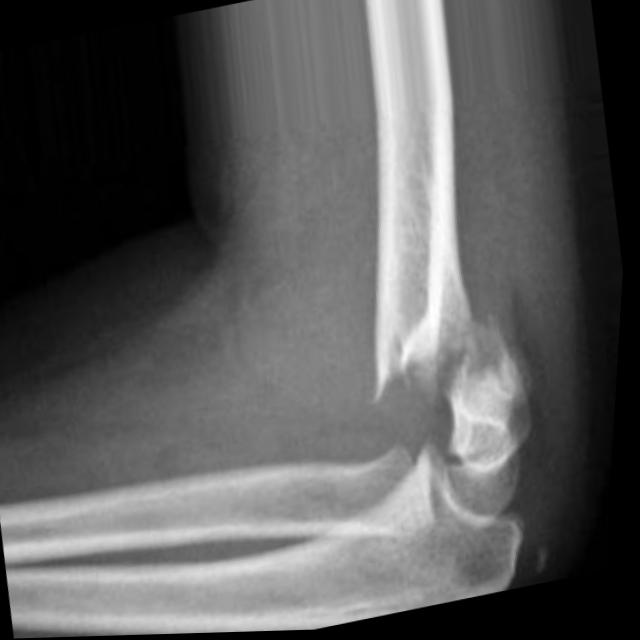fracture: (363, 339, 500, 521)
